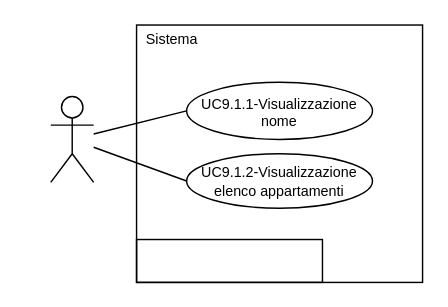
The diagram is 448 pixels wide and 307 high, and some of its shapes have lost their labels. The shapes that lost their labels are listed below. From the top down, each one's centre as x and y in pixels, then its label:
(71,138): Amministratore
(228,260): UC9.1-Visualizzazione elemento elenco reparti
